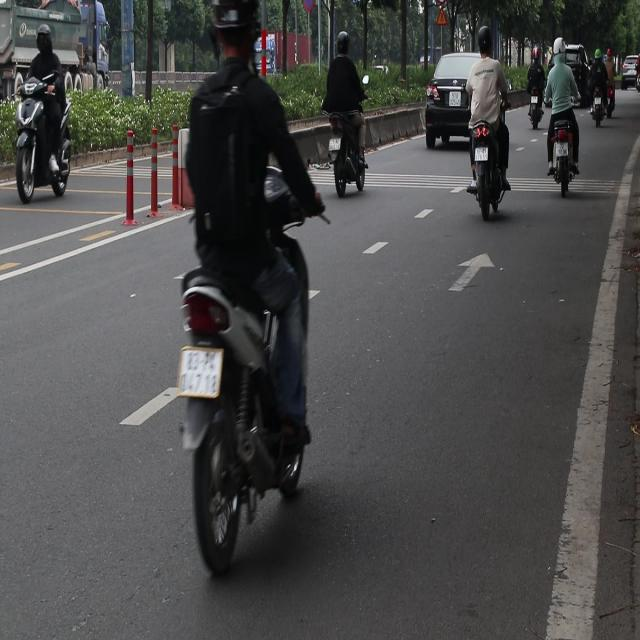car: (425, 52, 484, 150), (559, 41, 595, 110), (620, 54, 640, 92)
motorbike: (165, 245, 320, 574), (13, 80, 71, 204), (324, 111, 379, 196), (462, 126, 510, 221), (526, 74, 555, 148), (544, 126, 573, 196), (592, 89, 608, 129), (601, 76, 617, 116)
truck: (1, 1, 111, 97), (252, 20, 324, 87)
